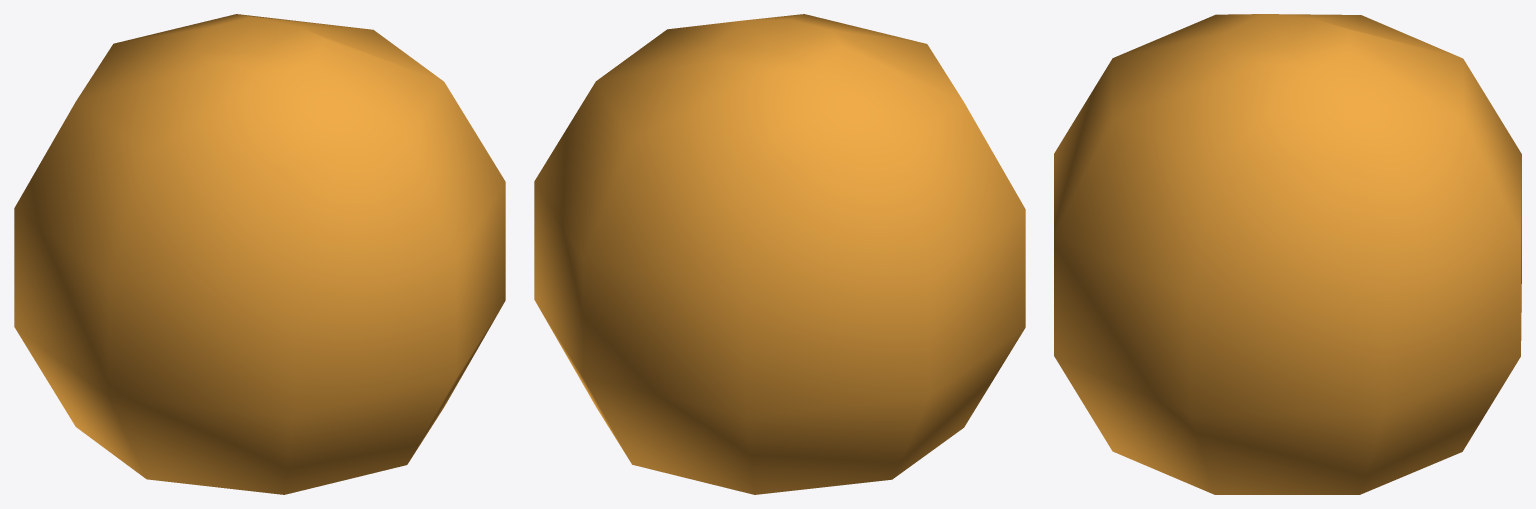
File: SM_Orange_01.fbx
The picture shows the model from 3 angles, left to right: view 1: azimuth 30°, elevation 25°; view 2: azimuth 150°, elevation 25°; view 3: azimuth 270°, elevation 25°; orthographic projection. The views are drawn at different scales.
Parts seen in each view (by area): view 1: SM_Orange_01; view 2: SM_Orange_01; view 3: SM_Orange_01.
Boxes of the visible parts, x1,y1,x2,y2 form: SM_Orange_01: [14, 14, 505, 494]; SM_Orange_01: [534, 14, 1025, 494]; SM_Orange_01: [1054, 14, 1521, 494].
Bounding box in the file's own units: 9.1 × 9 × 9.1.
